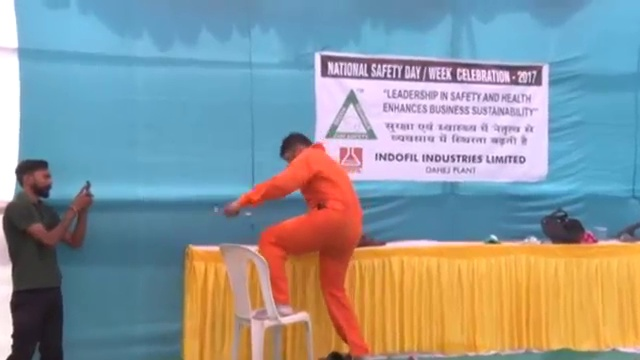helmet_off: (15, 157, 54, 202), (279, 131, 314, 165)
person: (227, 131, 372, 360), (1, 156, 97, 360)
